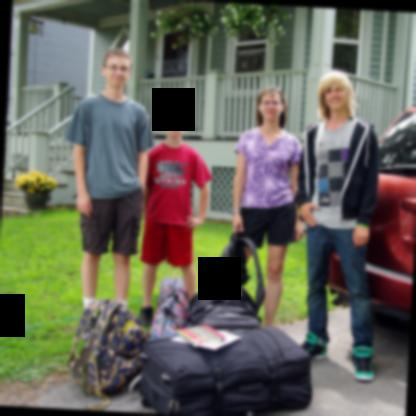backpack: (67, 297, 149, 398), (214, 238, 265, 309), (188, 290, 260, 333)
handbag: (216, 228, 266, 316), (149, 276, 189, 338)
suitcase: (135, 322, 312, 414), (187, 289, 259, 327)
